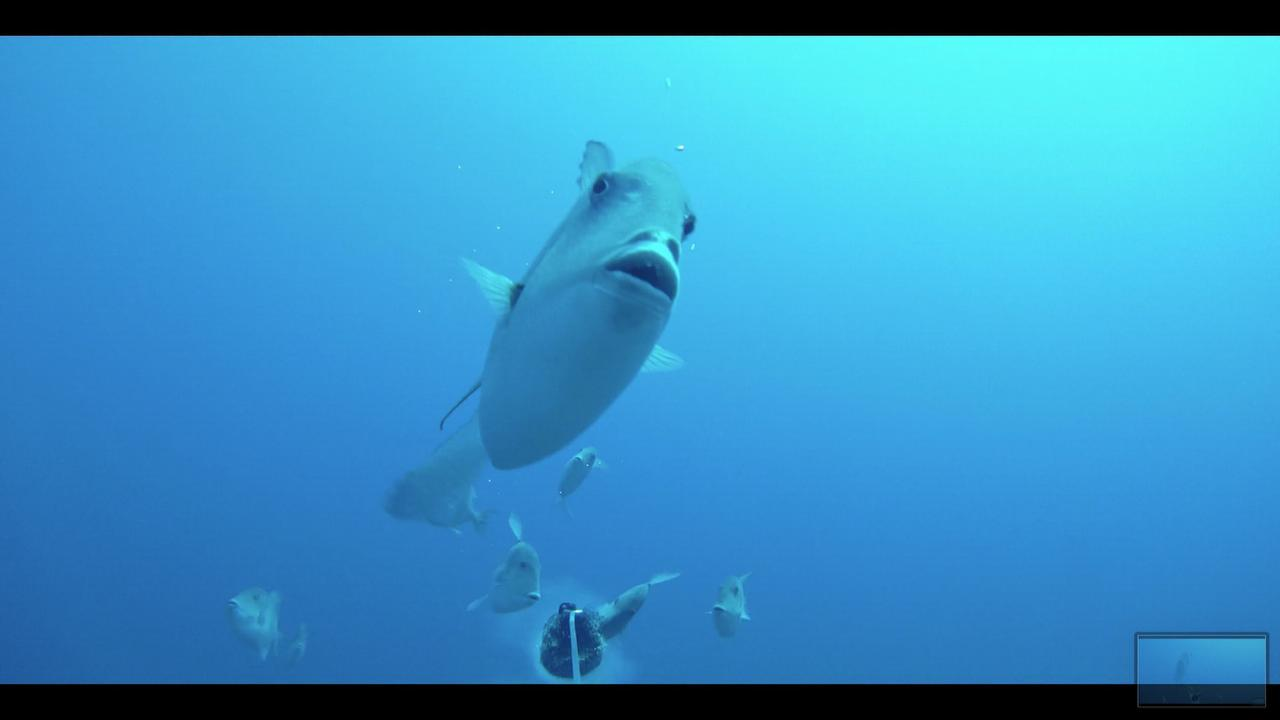balistes: (382, 137, 691, 523), (216, 573, 326, 674), (462, 512, 545, 618), (703, 566, 775, 645)
